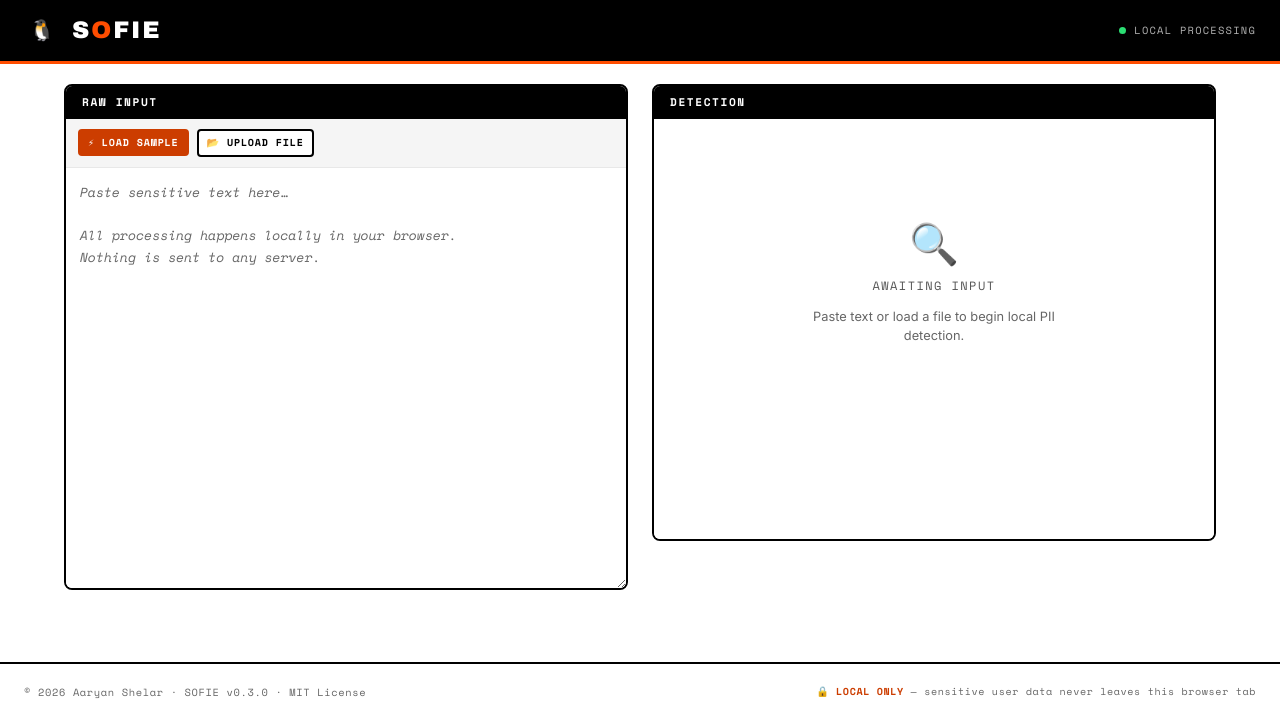
Test: SOFIE Phase 2 UI › shows an accessible error when clipboard access is unavailable
(page scrolled)
Replace the text in the text box with test id "text-input" with "Contact user@example.com" at [346, 378], box [66,168,626,588]
Wait 300 ms
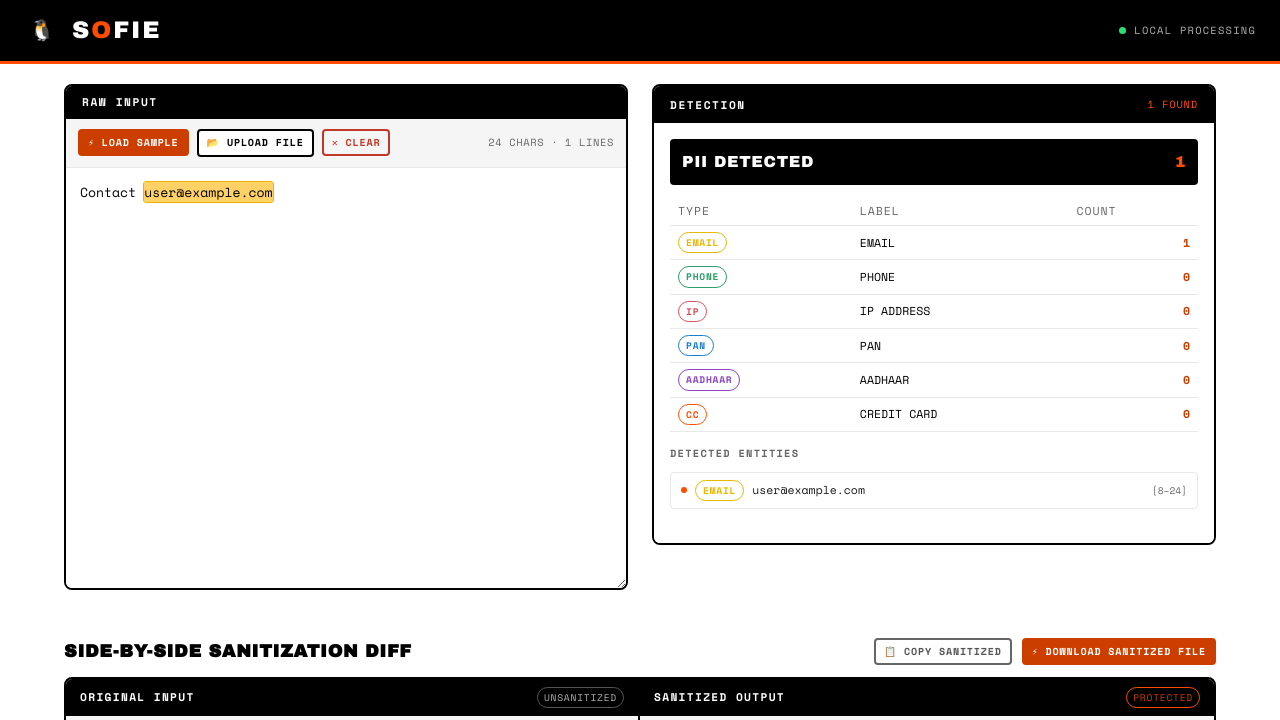
Click the button with test id "copy-btn" at [943, 651], box [874,638,1012,665]
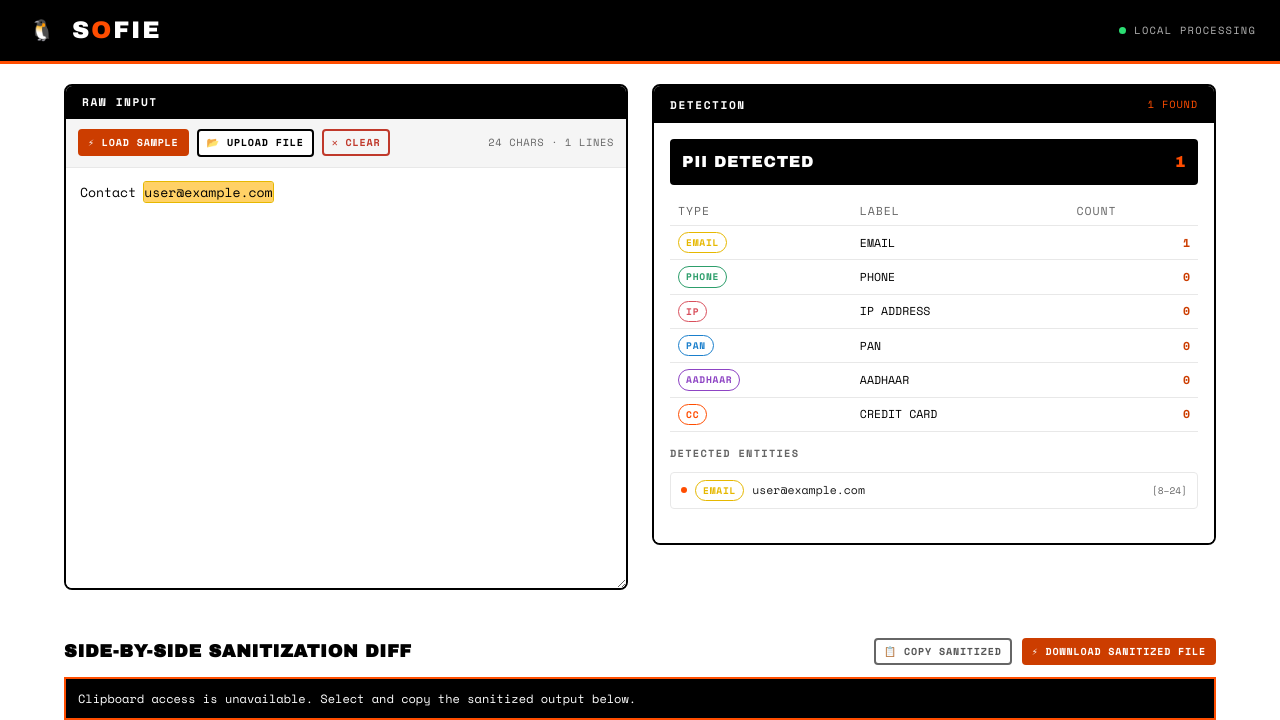
Result: the message "Clipboard access is unavailable. Select and copy the sanitized output below." is shown at [64,677,1216,719]
